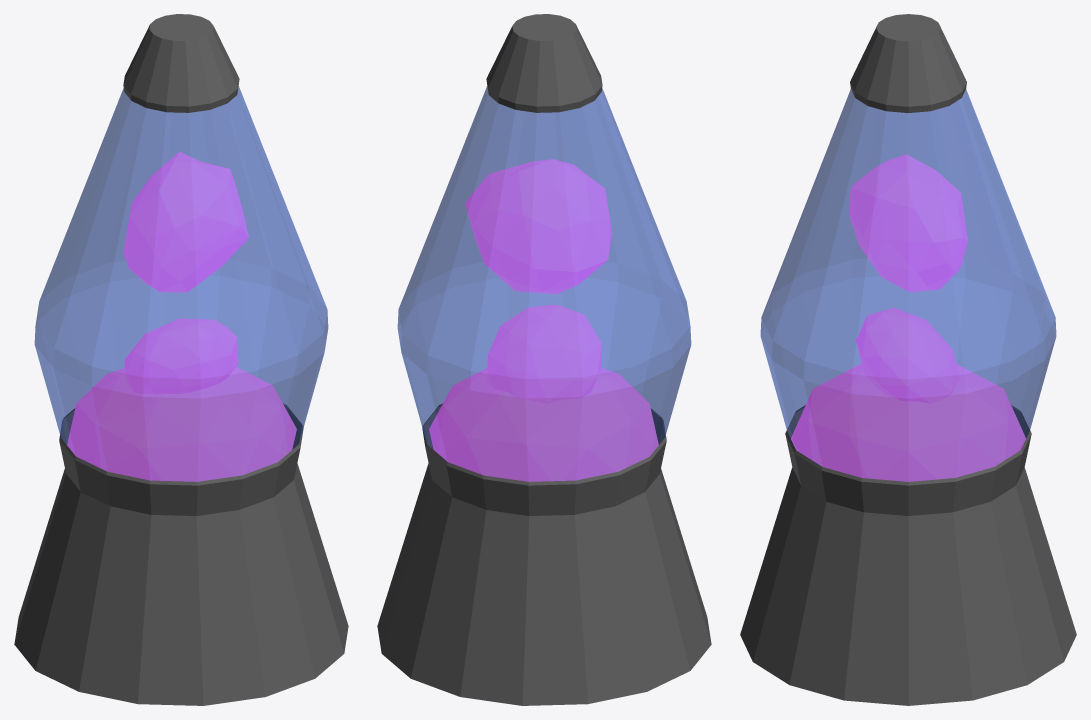
Rendered from Lavalamp.fbx.
3 renders of one model, left to right at view 1: azimuth 30°, elevation 25°; view 2: azimuth 150°, elevation 25°; view 3: azimuth 270°, elevation 25°, orthographic.
Parts seen in each view (by area): view 1: Cylinder, Icosphere, Icosphere.002, Icosphere.001; view 2: Cylinder, Icosphere, Icosphere.002, Icosphere.001; view 3: Cylinder, Icosphere, Icosphere.002, Icosphere.001.
Part boxes in pixels (<box>): Cylinder: <box>14,14,348,705</box>; Icosphere: <box>67,367,296,481</box>; Icosphere.002: <box>123,151,248,292</box>; Icosphere.001: <box>124,318,238,394</box>; Cylinder: <box>377,14,711,705</box>; Icosphere: <box>429,368,658,481</box>; Icosphere.002: <box>465,159,611,294</box>; Icosphere.001: <box>487,304,601,403</box>; Cylinder: <box>740,14,1076,705</box>; Icosphere: <box>791,363,1025,481</box>; Icosphere.002: <box>849,154,967,292</box>; Icosphere.001: <box>856,307,960,403</box>.
Bounding box in the file's own units: 100 × 199 × 100.
